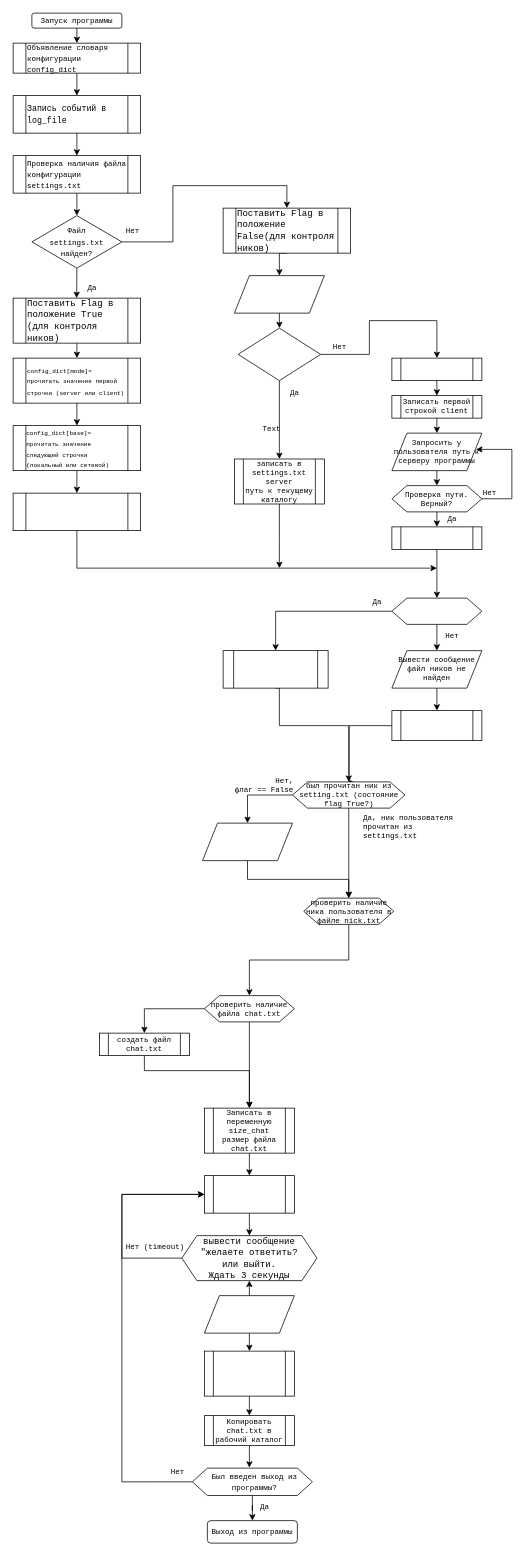
The diagram is 531 pixels wide and 1556 high, and some of its shapes have lost their labels. The shapes that lost their labels are listed below. From the top down, each one's centre as x and y in pixels, then its label:
the point at 279,294: Запросить у пользователя режим работы программы
the point at 279,354: выбран режим server?
the point at 436,369: Создать файл settings.txt
the point at 76,511: config_dict[nickname]= прочитать значение следующей строчки
the point at 436,537: Записать второй строкой путь
the point at 436,610: Проверка наличия файла nicks.txt на сервере
the point at 275,669: копировать (перезаписать)файл nicks.txt в локальный каталог
the point at 436,725: Создать локально файл nicks.txt
the point at 247,841: Запросить ник пользователя
the point at 249,1194: вывести 30% от конца файла в консоль
the point at 249,1314: Запросить у пользователя
the point at 249,1373: Записать сообщение или событие выхода в удаленный файл chat.txt
